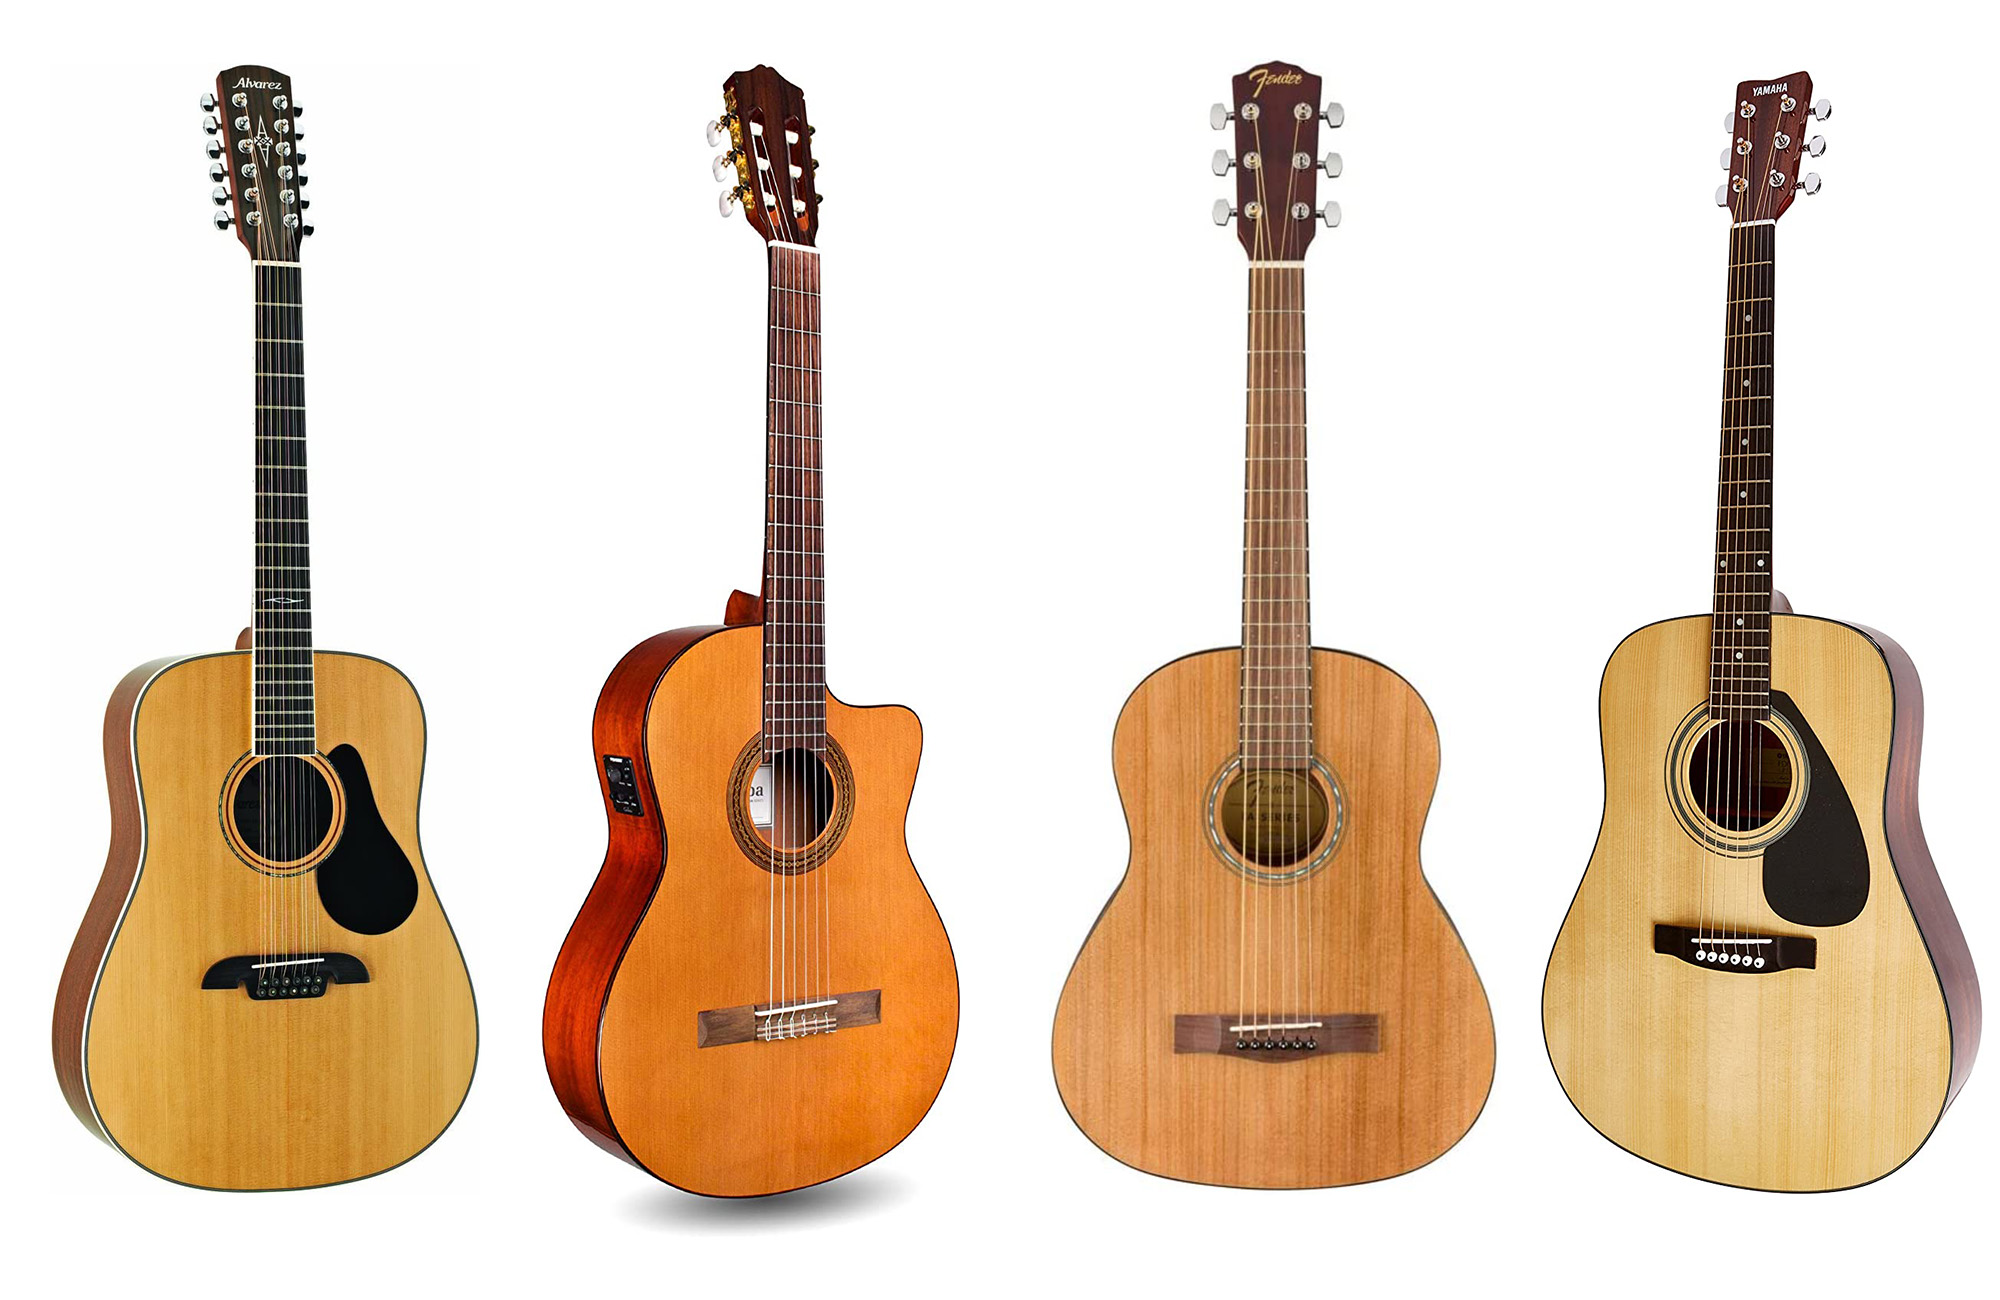guitar: (1047, 61, 1499, 1195), (1536, 66, 1984, 1197), (50, 58, 484, 1197), (542, 63, 965, 1202)
